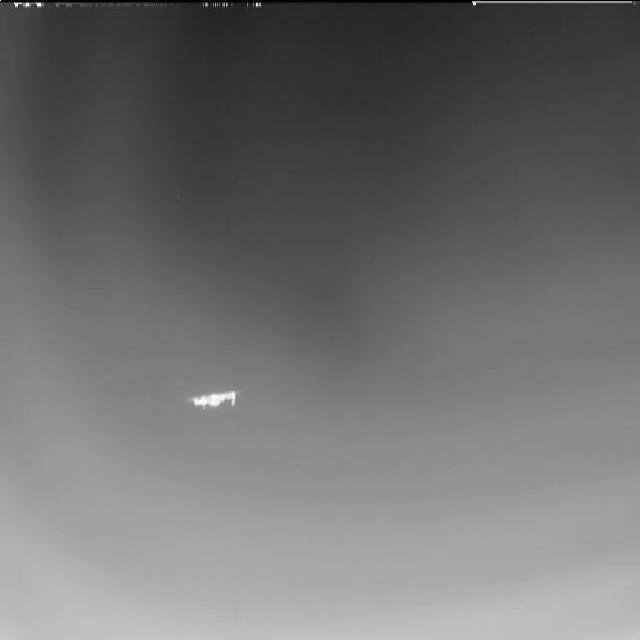DRONE: (180, 379, 247, 421)
